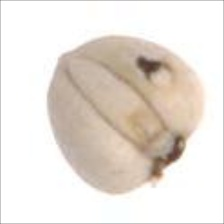L5: (55, 50, 168, 153), (139, 132, 191, 186)
L6: (45, 33, 206, 197)
